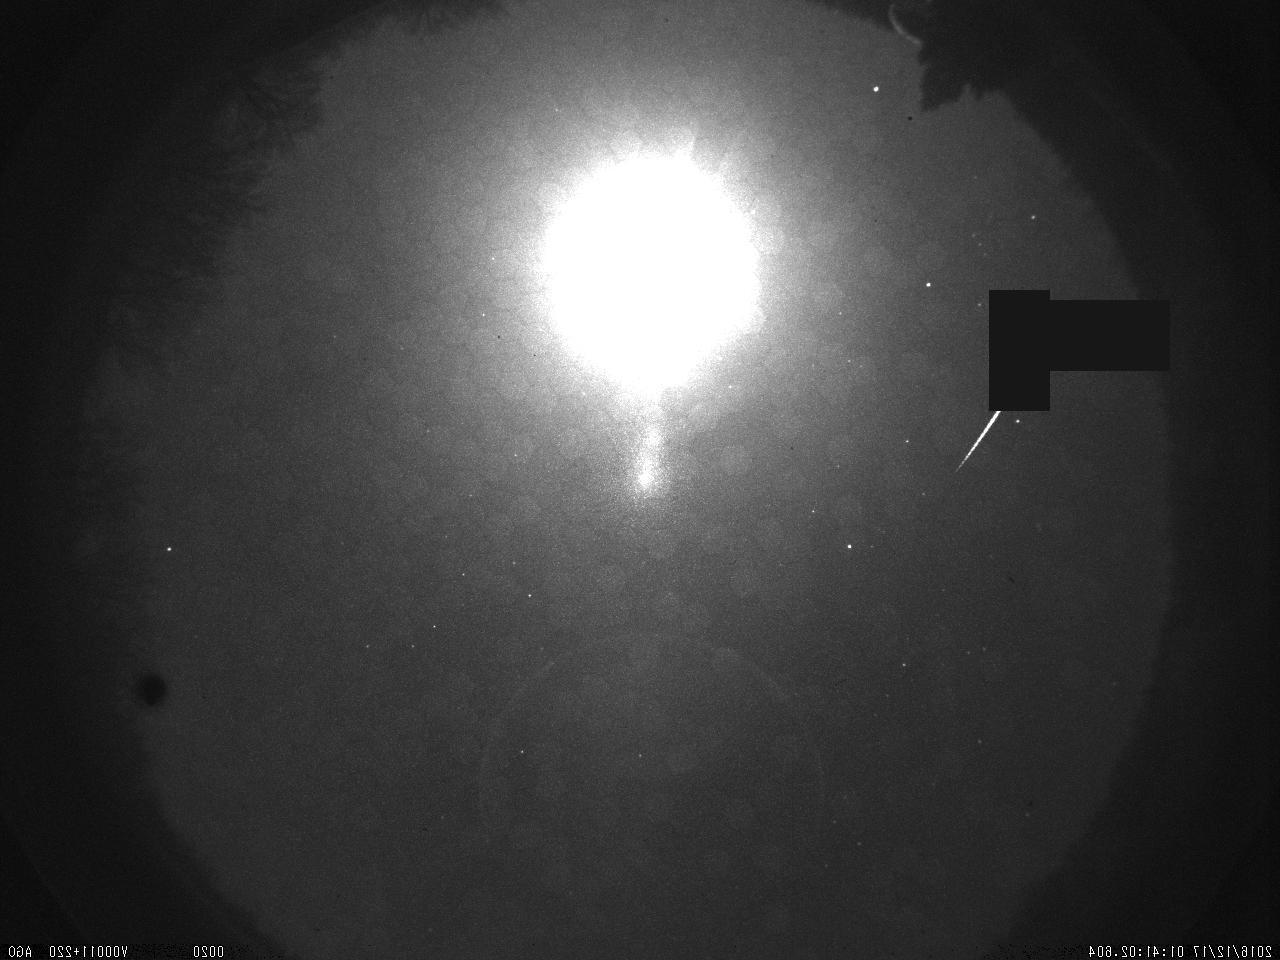meteor: (934, 385, 1026, 484)
